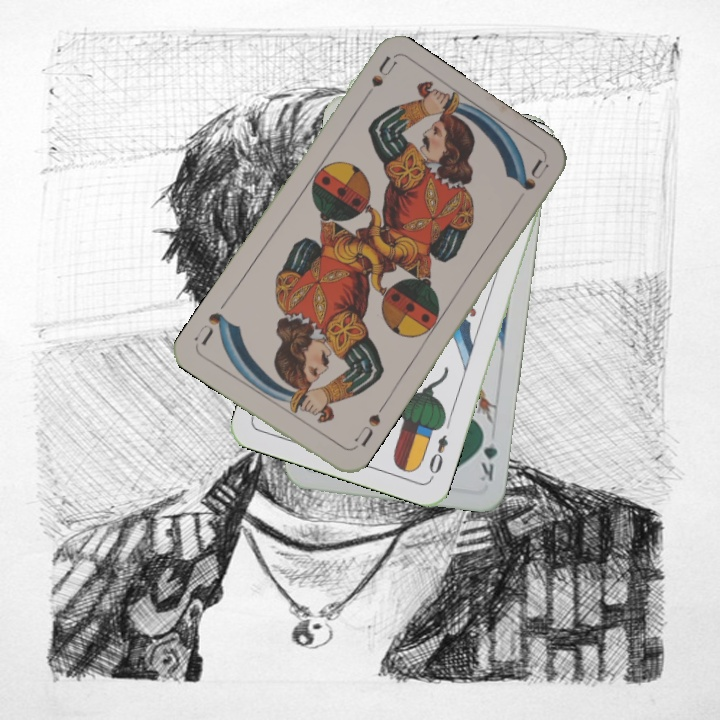EO: (425, 430, 451, 482)
GK: (476, 426, 501, 484)
SU: (356, 53, 399, 108), (350, 409, 383, 450)
